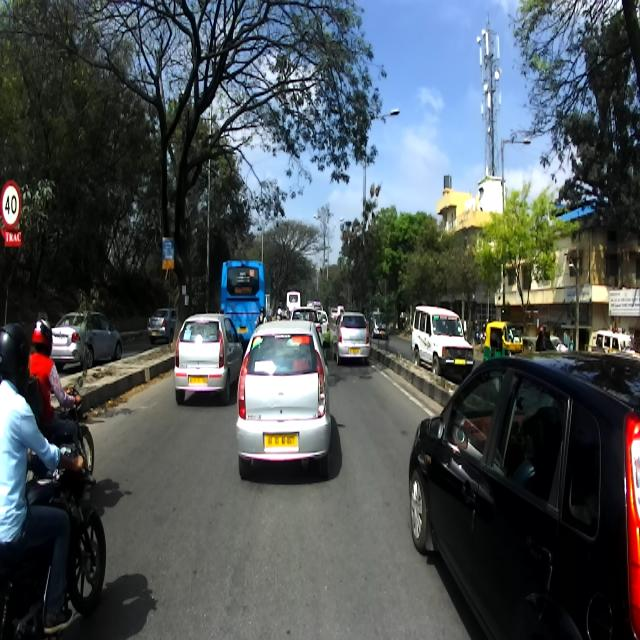car ahead at: (412, 324, 640, 640), (236, 320, 332, 494), (166, 310, 240, 404)
